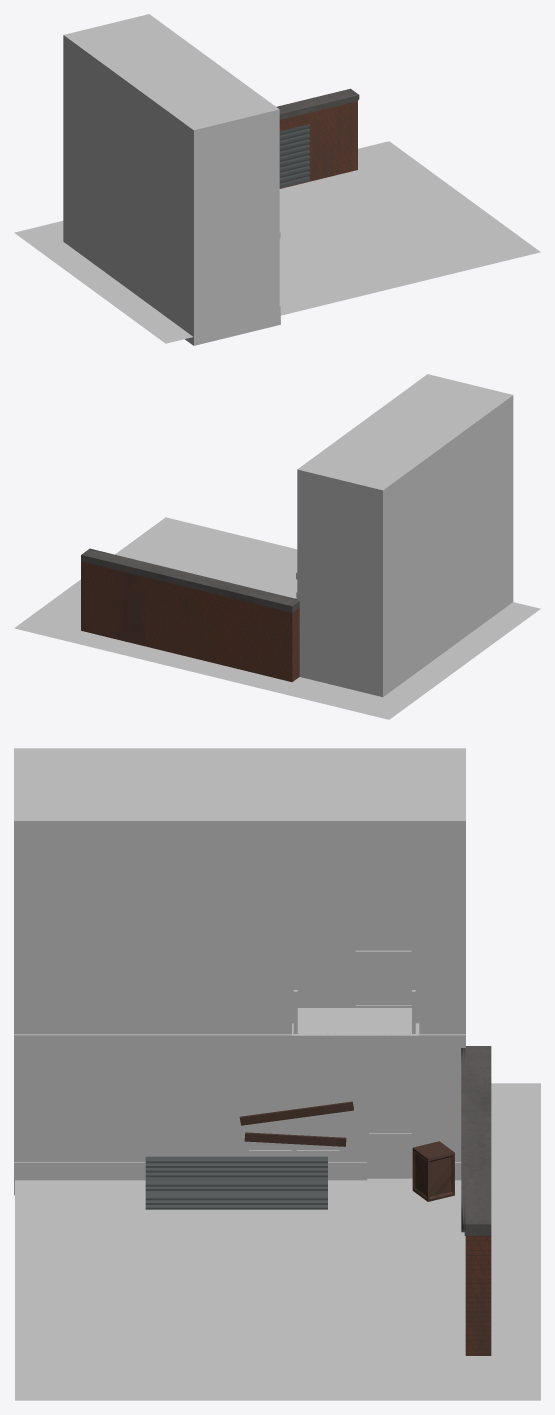
File: GameEngineAssets 4 2.fbx
3 views of the same model, one above another, from view 1: azimuth 30°, elevation 25°; view 2: azimuth 150°, elevation 25°; view 3: azimuth 270°, elevation 25° (orthographic). The views are drawn at different scales.
Visible parts, largest first — view 1: 2Storey, GroundPlane, Garage, GarageDoor; view 2: 2Storey, GroundPlane, Garage; view 3: 2Storey, GroundPlane, Garage, Box, MetalPlank.023, MetalPlank.036, MetalPlank.047, WoodPlank, MetalPlank.042, WoodPlank.001, MetalPlank.005, MetalPlank.018 (+3 smaller).
Boxes of the visible parts, x1,y1,x2,y2 form: 2Storey: [63, 14, 280, 345]; GroundPlane: [14, 141, 540, 343]; Garage: [276, 88, 359, 188]; GarageDoor: [279, 124, 309, 188]; 2Storey: [296, 374, 513, 696]; GroundPlane: [14, 517, 540, 719]; Garage: [81, 548, 299, 681]; 2Storey: [14, 748, 465, 1195]; GroundPlane: [15, 1083, 540, 1400]; Garage: [461, 1046, 491, 1355]; Box: [412, 1141, 454, 1201]; MetalPlank.023: [145, 1193, 327, 1200]; MetalPlank.036: [145, 1180, 327, 1186]; MetalPlank.047: [145, 1157, 327, 1163]; WoodPlank: [239, 1101, 353, 1125]; MetalPlank.042: [145, 1172, 327, 1177]; WoodPlank.001: [244, 1132, 346, 1146]; MetalPlank.005: [145, 1205, 327, 1209]; MetalPlank.018: [145, 1200, 327, 1204].
Size of the model in its own units: 5501 by 3020 by 3860.
